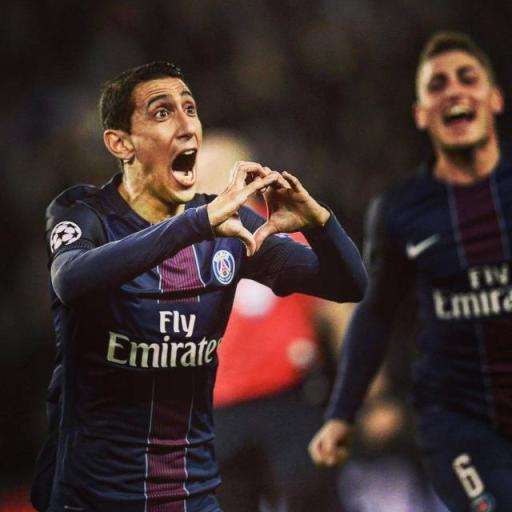Emirates: (100, 305, 220, 368), (432, 265, 512, 322)
